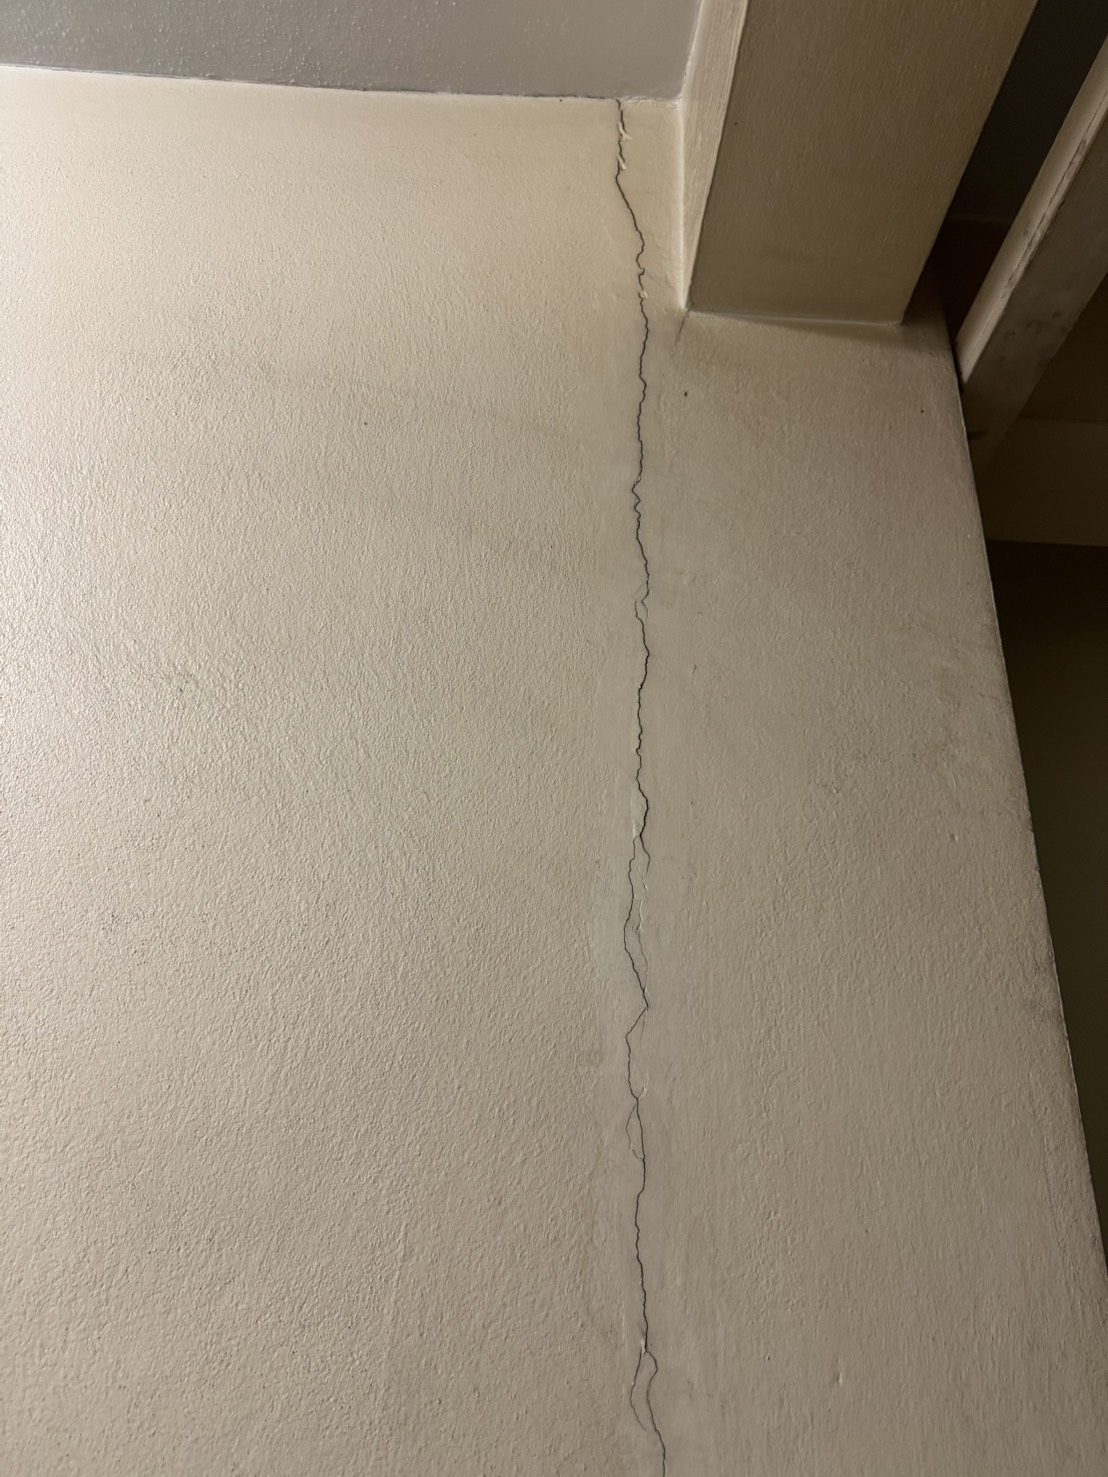Low: (554, 90, 713, 1477)
